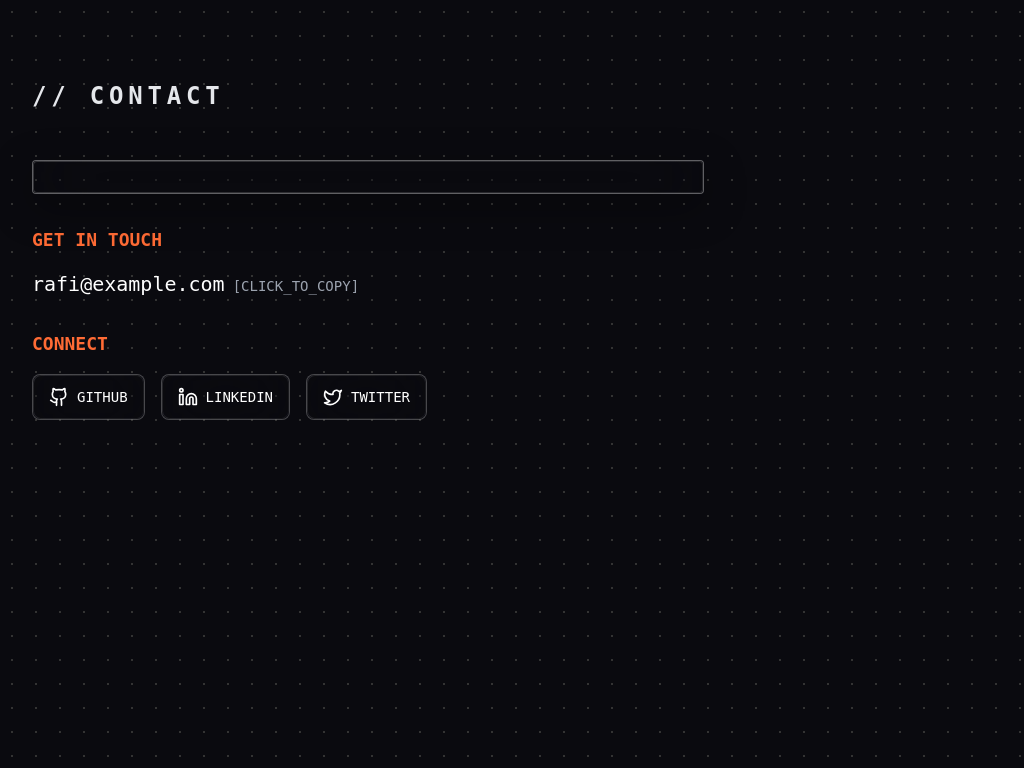
Test: Contact Component › should display confirmation message when email is copied
Click the button "rafi@example.com[CLICK_TO_COPY]" at (196, 284), box x1=32 y1=270 x2=359 y2=298
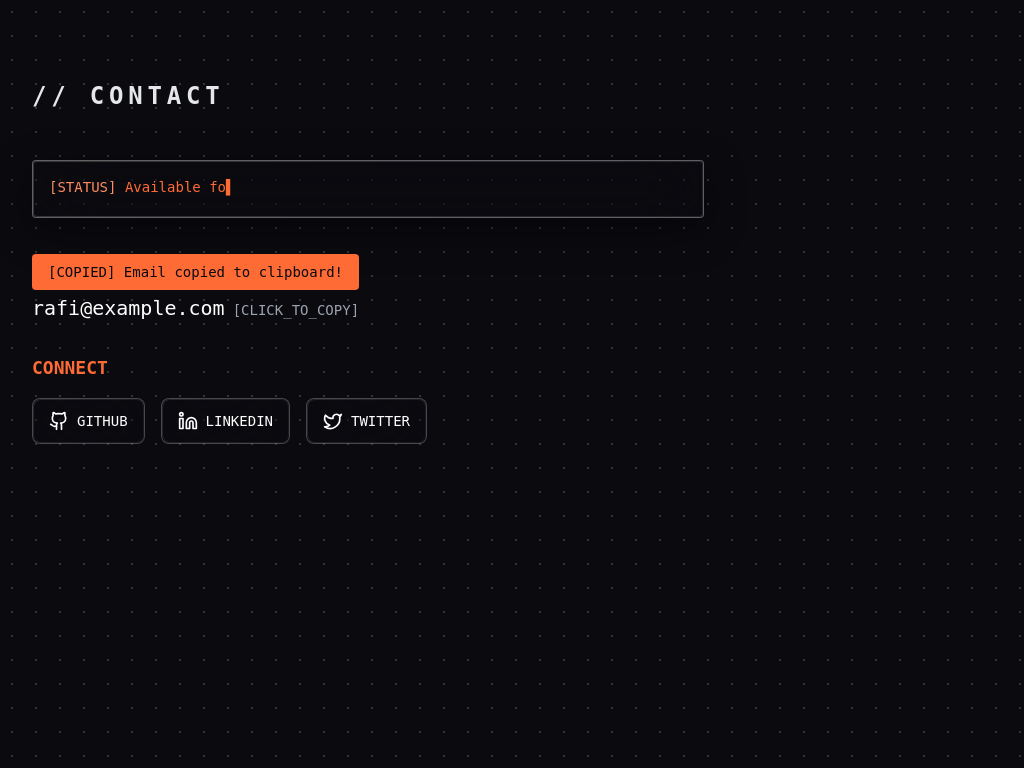
Expected: the text "[COPIED] Email copied to clipboard!" is shown, x1=32 y1=254 x2=359 y2=290
